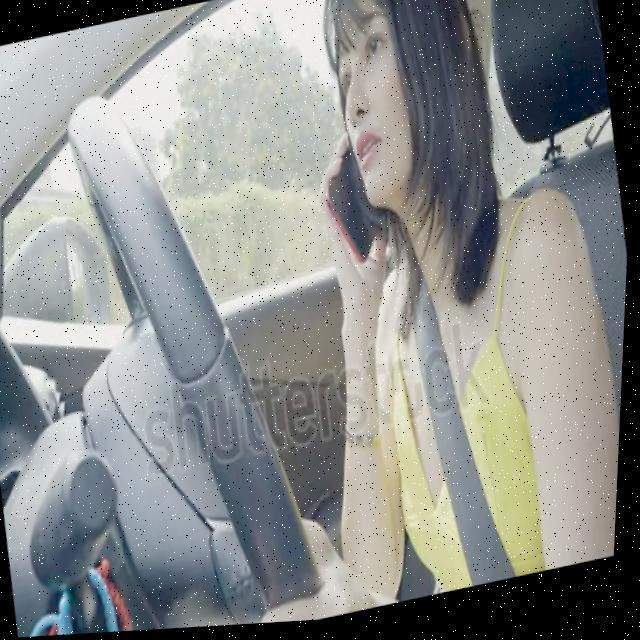PhoneCall: (314, 127, 399, 274)
